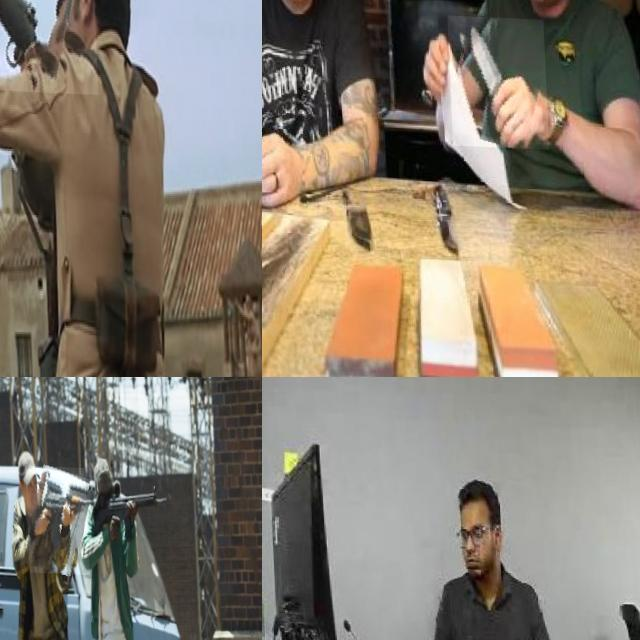-: (445, 12, 545, 145)
gun-knife-thesis - v11 Yolov5 augmented: (0, 0, 130, 143), (80, 462, 170, 572), (24, 463, 87, 572)
